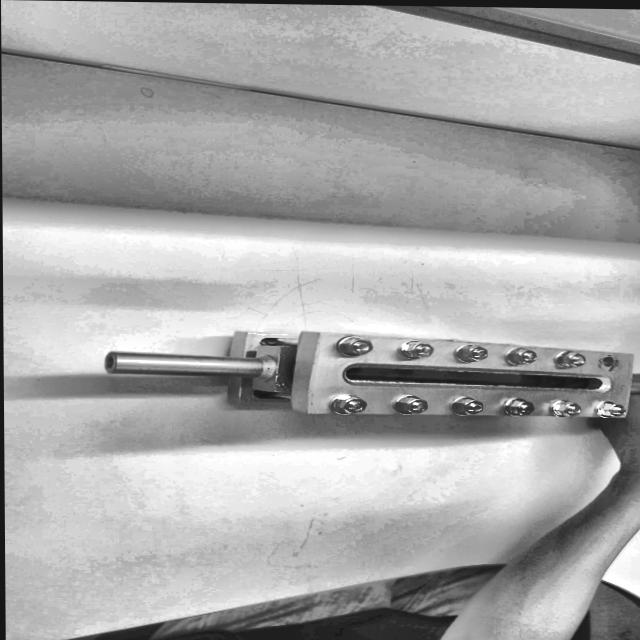ShuiWeiQi_11: (99, 308, 632, 446)
